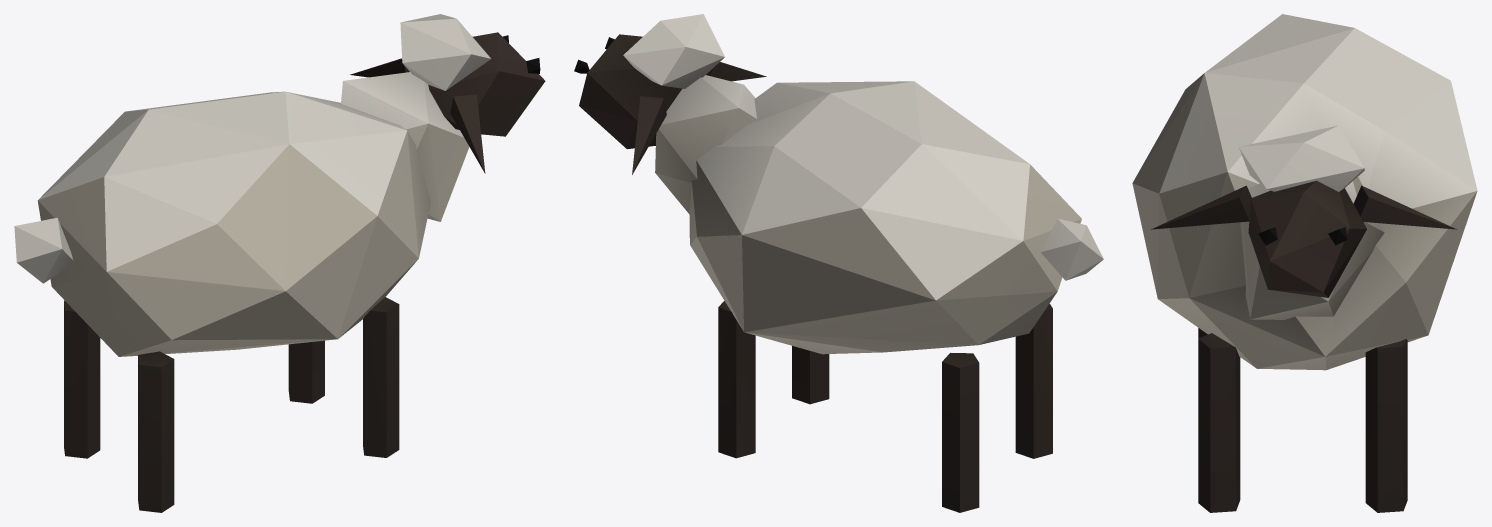
The model's file is sheep.glb.
The picture shows the model from 3 angles, left to right: view 1: azimuth 30°, elevation 25°; view 2: azimuth 150°, elevation 25°; view 3: azimuth 270°, elevation 25°; orthographic projection. The views are drawn at different scales.
Visible parts, largest first — view 1: base, head_m; view 2: base, head_m; view 3: base, head_m.
Part boxes in pixels (x1,y1,x2,y2): base: (14,72,469,512); head_m: (350,14,545,173); base: (655,75,1103,512); head_m: (574,14,766,174); base: (1132,14,1477,512); head_m: (1151,125,1456,297).
Size of the model in its own units: 0.4824 by 0.336 by 0.2473.
